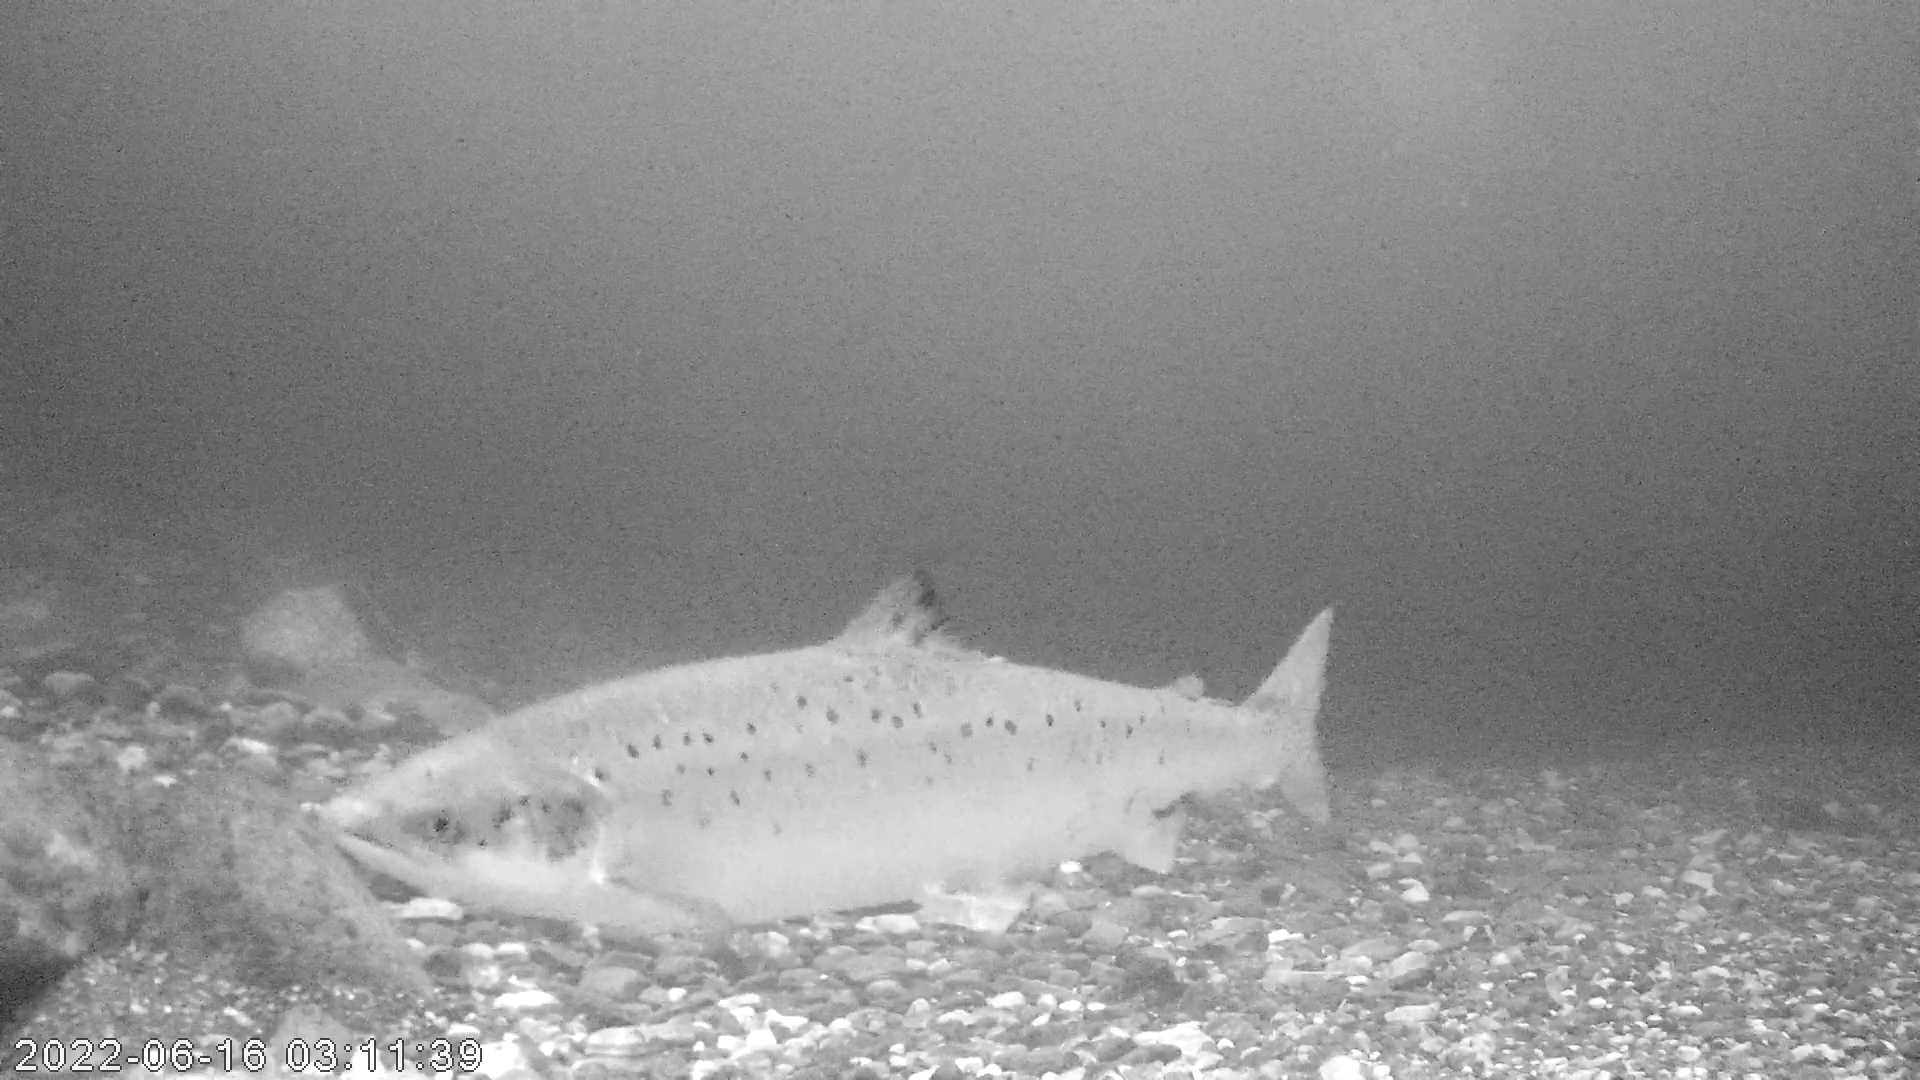salmon: (320, 567, 1338, 936)
